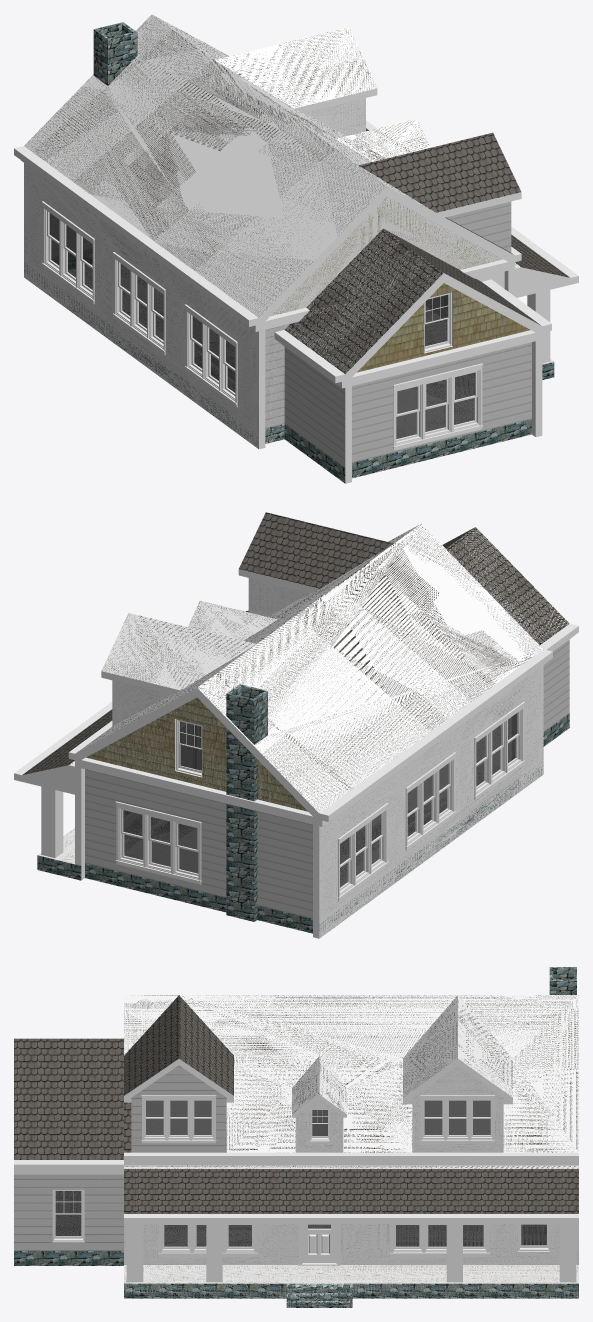
Rendered from houseUnsectioned.dae.
3 renders of one model, top to bottom at view 1: azimuth 30°, elevation 25°; view 2: azimuth 150°, elevation 25°; view 3: azimuth 270°, elevation 25°, orthographic. The views are drawn at different scales.
Parts seen in each view (by area): view 1: Component_7 (×22), Window-3lite_8_-6x5_-4 (×4); view 2: Component_7 (×18), Window-3lite_8_-6x5_-4 (×4); view 3: Component_7 (×23), Window-3lite_8_-6x5_-4 (×8), Door-SglExtHeaderWLite_3_-0x6_-8, Lower_sash (×2).
Boxes of the visible parts, <box> form: Component_7 (×22): <box>14,14,578,483</box>; Window-3lite_8_-6x5_-4 (×4): <box>41,201,483,450</box>; Component_7 (×18): <box>14,512,569,938</box>; Window-3lite_8_-6x5_-4 (×4): <box>115,702,524,901</box>; Component_7 (×23): <box>14,967,578,1307</box>; Window-3lite_8_-6x5_-4 (×8): <box>141,1095,494,1256</box>; Door-SglExtHeaderWLite_3_-0x6_-8: <box>298,1224,340,1265</box>; Lower_sash (×2): <box>55,1214,546,1245</box>.
Size of the model in its own units: 402 by 616 by 270.
Materials: 16 (5 with a texture image).
